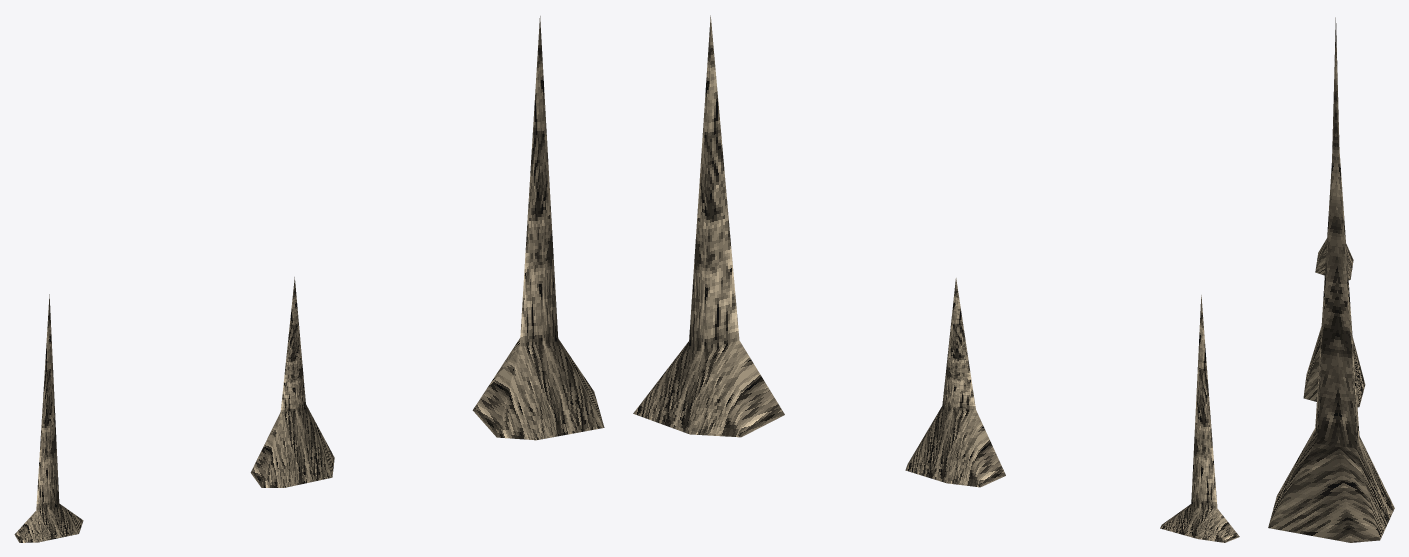
The model's file is uvmd-0085.glb.
The picture shows the model from 3 angles, left to right: view 1: azimuth 30°, elevation 25°; view 2: azimuth 150°, elevation 25°; view 3: azimuth 270°, elevation 25°; orthographic projection. The views are drawn at different scales.
Visible parts, largest first — view 1: uvmd-0085; view 2: uvmd-0085; view 3: uvmd-0085.
Part boxes in pixels (left/top/right/bottom): uvmd-0085: left=14, top=16, right=604, bottom=542; uvmd-0085: left=633, top=15, right=1239, bottom=542; uvmd-0085: left=1268, top=17, right=1394, bottom=542.
Bounding box in the file's own units: 239 × 155 × 43.
1 material, 1 textured.
